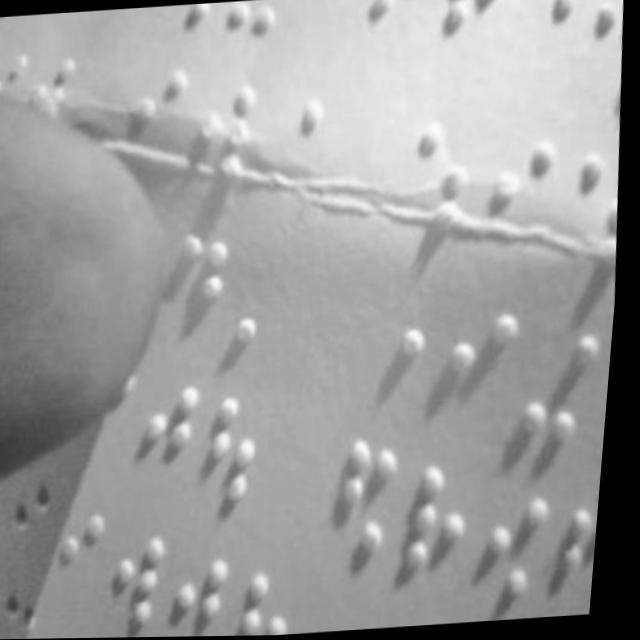braiile: (519, 326, 611, 445), (400, 458, 480, 594), (447, 311, 531, 438), (333, 435, 413, 567), (487, 490, 567, 611), (201, 391, 280, 505), (139, 377, 213, 495), (364, 288, 438, 398), (112, 531, 179, 638), (511, 0, 580, 103), (434, 0, 509, 86), (174, 548, 245, 637), (358, 0, 432, 84), (555, 504, 607, 619), (241, 558, 316, 637), (582, 4, 629, 118), (219, 0, 290, 48), (163, 2, 224, 50), (594, 347, 617, 458)
